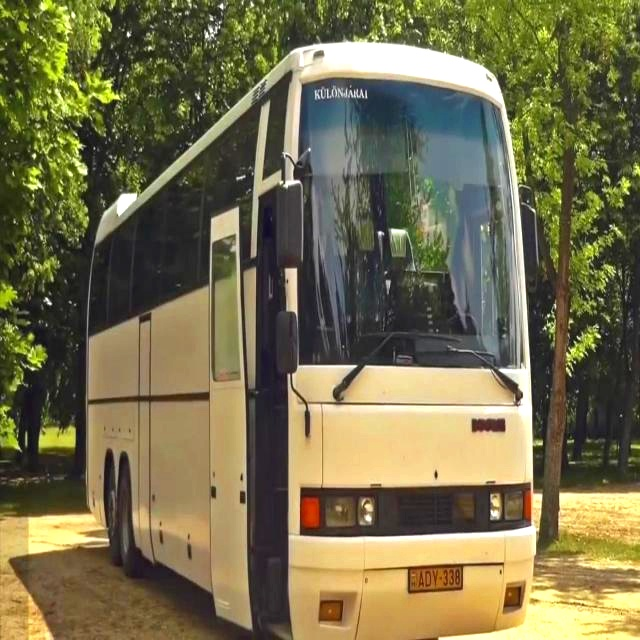bus: (60, 34, 592, 637)
